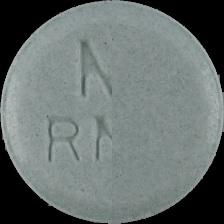51079-347: (0, 0, 224, 224)
